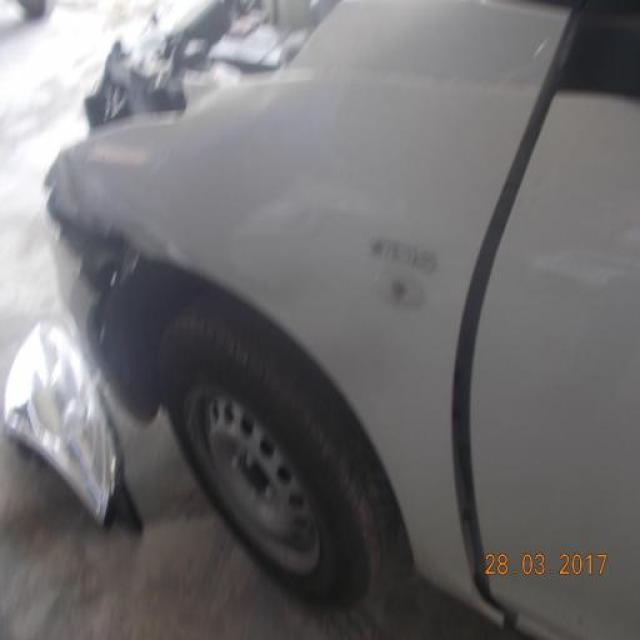crush: (34, 0, 349, 419)
misalignment: (448, 84, 573, 632)
